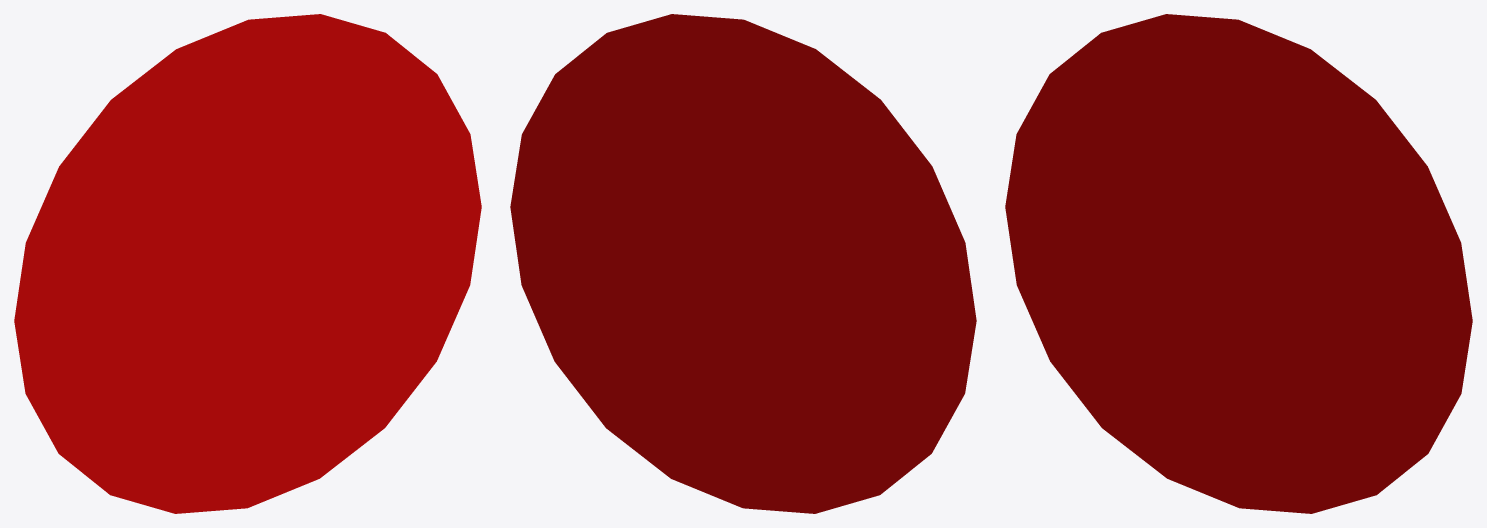
Rendered from ElevatorButton.fbx.
3 views of the same model, side by side, from view 1: azimuth 30°, elevation 25°; view 2: azimuth 150°, elevation 25°; view 3: azimuth 330°, elevation 25° (orthographic).
Visible parts, largest first — view 1: pCylinder1; view 2: pCylinder1; view 3: pCylinder1.
Part boxes in pixels (bbox=[...]): pCylinder1: bbox=[14, 14, 481, 513]; pCylinder1: bbox=[510, 14, 976, 513]; pCylinder1: bbox=[1005, 14, 1472, 513].
Bounding box in the file's own units: 0.7056 × 0.7056 × 0.00244.
